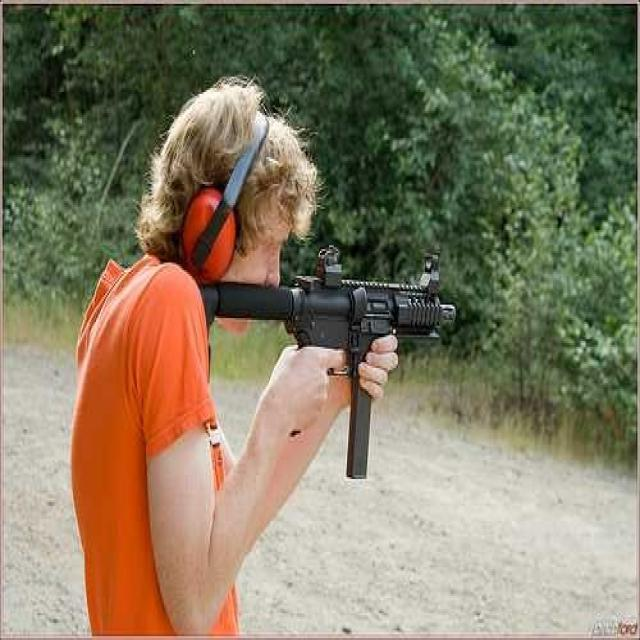Rifle: (162, 215, 492, 539)
